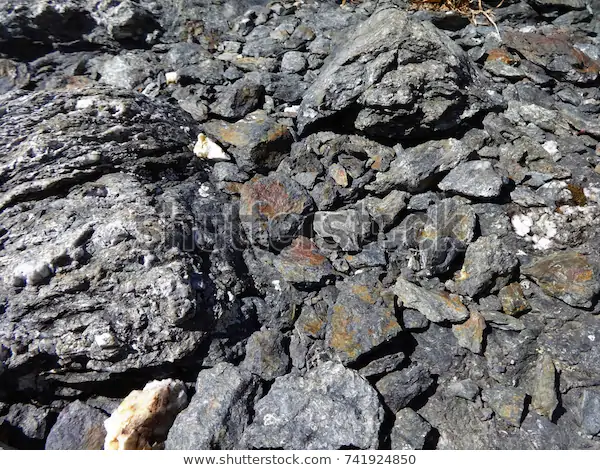volcanic_rock: (4, 86, 263, 390), (296, 16, 507, 142), (229, 357, 401, 449), (161, 358, 294, 449), (360, 127, 499, 193), (316, 264, 407, 364), (226, 170, 322, 258), (523, 231, 598, 328), (449, 233, 516, 307), (437, 154, 519, 202)
